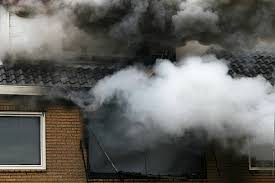smoke: (84, 1, 275, 134)
